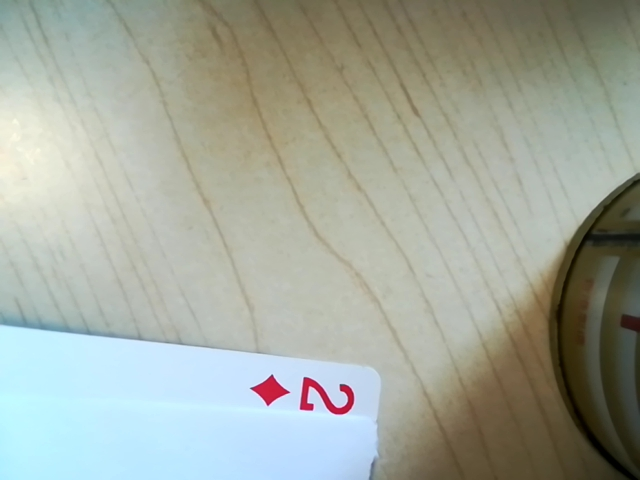fk 2: (247, 368, 372, 424)
